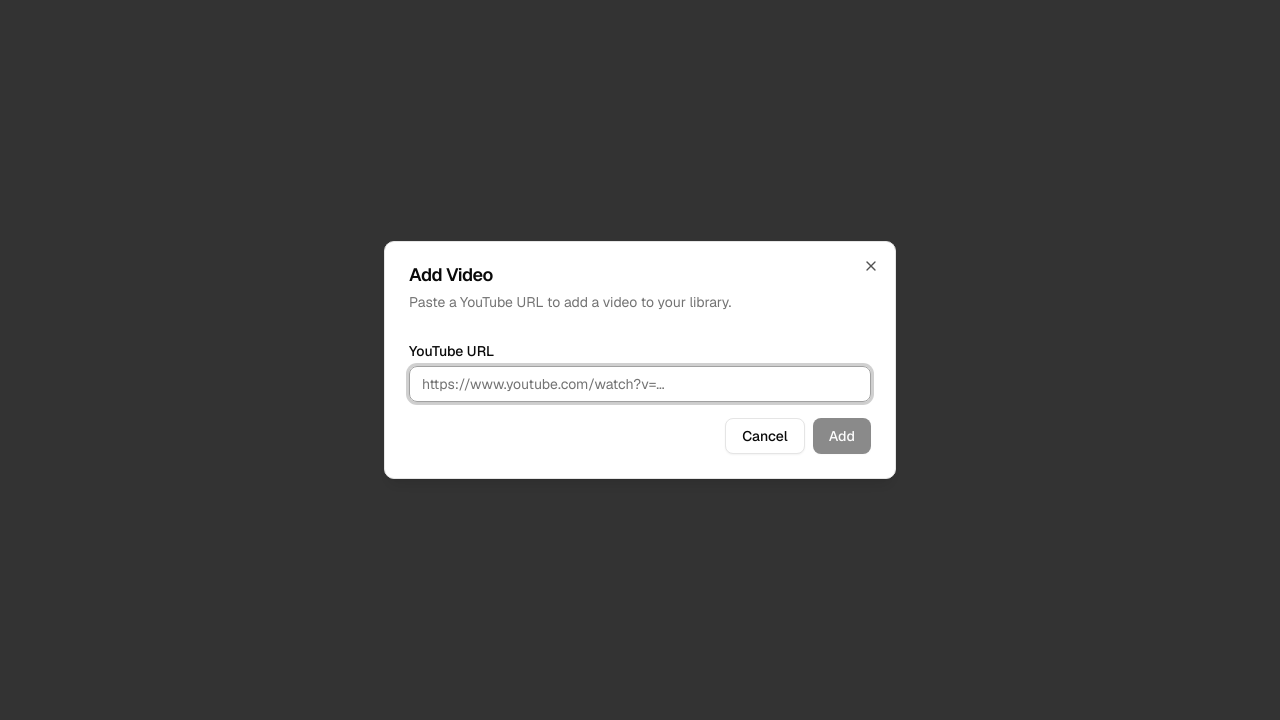
Test: AddVideoModal › form submission › shows error message when video already exists
Step 1. Type "https://www.youtube.com/watch?v=dQw4w9WgXcQ" into the field labelled "YouTube URL" → (640, 384), box top-left (409, 366), bottom-right (871, 402)
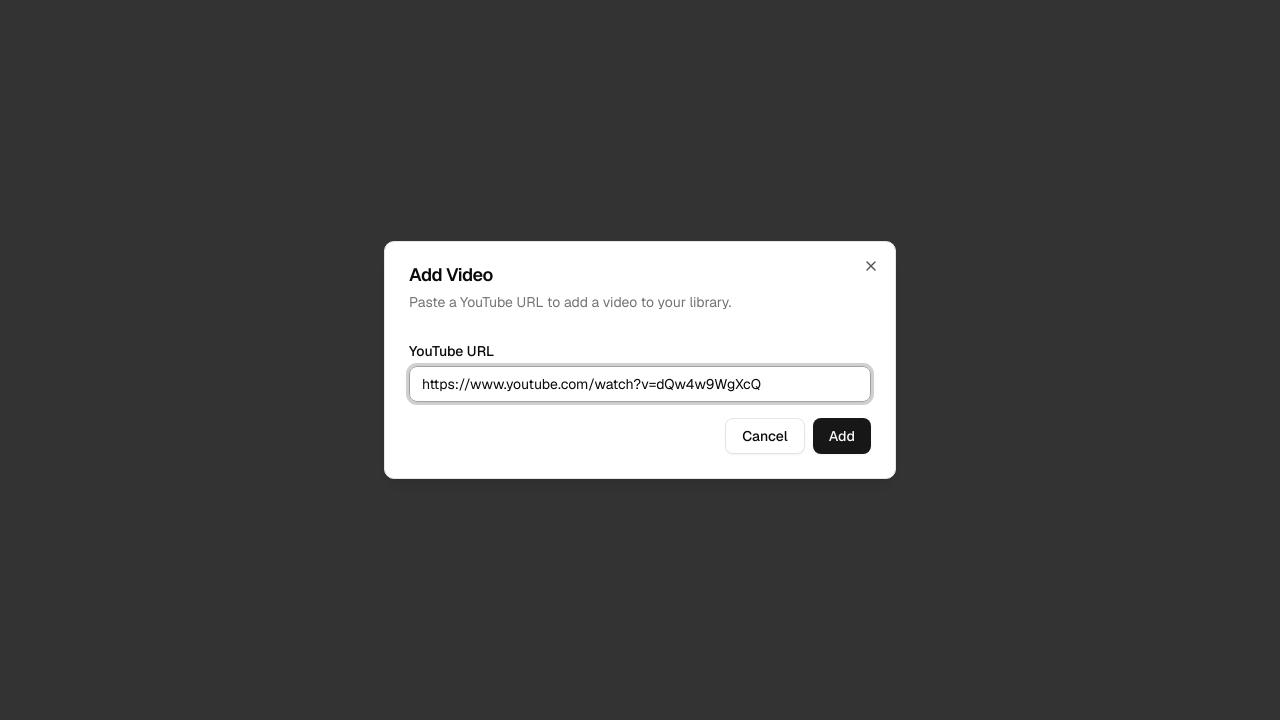
Step 2. Click the button "Add" → (842, 436), box top-left (813, 418), bottom-right (871, 454)
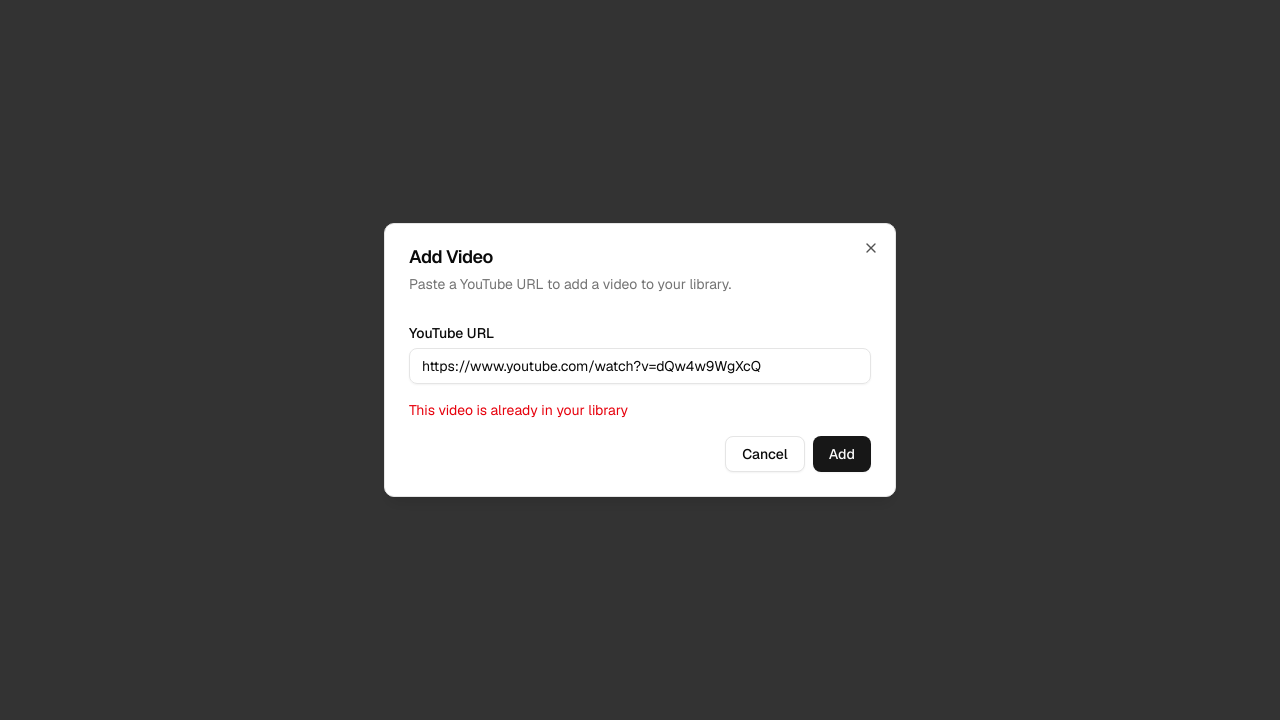
Now the message reads "This video is already in your library", box top-left (409, 401), bottom-right (628, 419)
